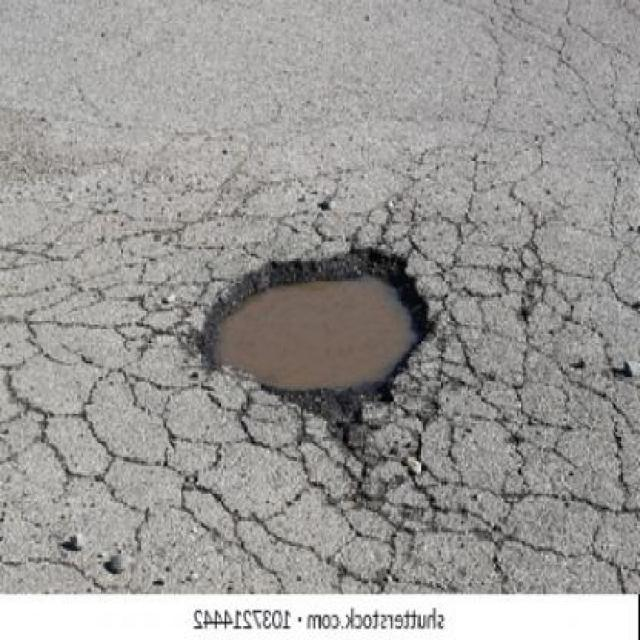Pothole: (200, 249, 432, 427)
